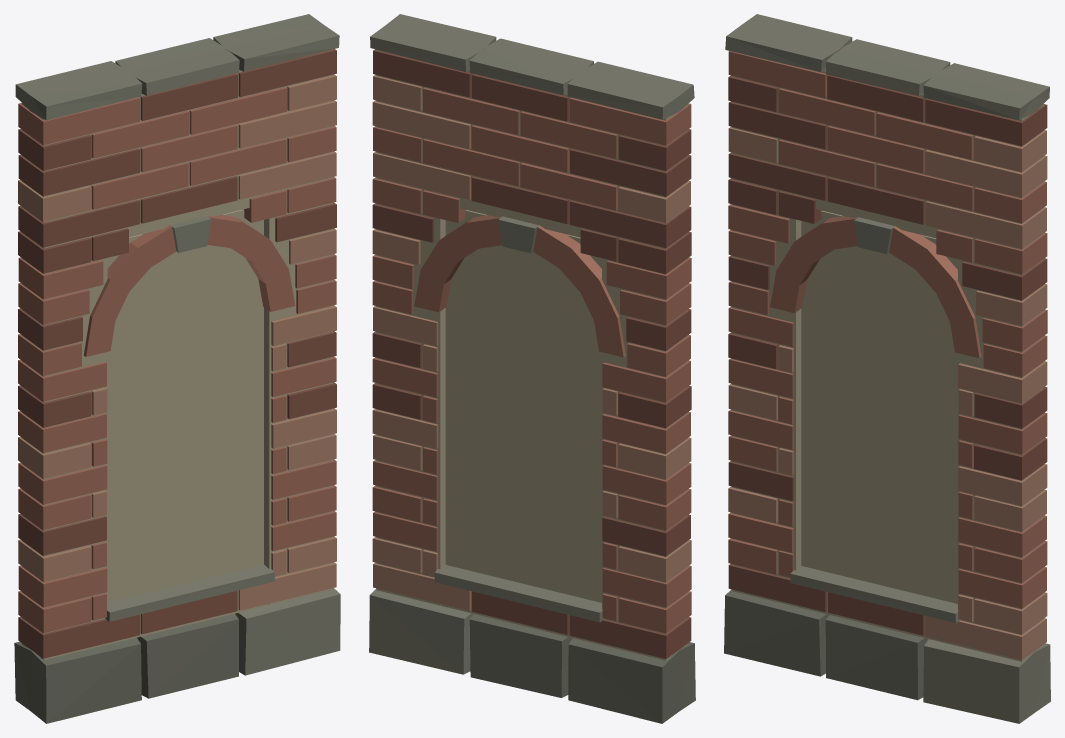
The model's file is wall_brick_arch.glb.
The picture shows the model from 3 angles, left to right: view 1: azimuth 30°, elevation 25°; view 2: azimuth 150°, elevation 25°; view 3: azimuth 330°, elevation 25°; orthographic projection.
Parts seen in each view (by area): view 1: Wall_Brick_Arch; view 2: Wall_Brick_Arch; view 3: Wall_Brick_Arch.
Part boxes in pixels (x1,y1,x2,y2): Wall_Brick_Arch: (14, 14, 340, 723); Wall_Brick_Arch: (369, 14, 695, 723); Wall_Brick_Arch: (724, 14, 1050, 723).
Bounding box in the file's own units: 1.52 × 3.05 × 0.294.
